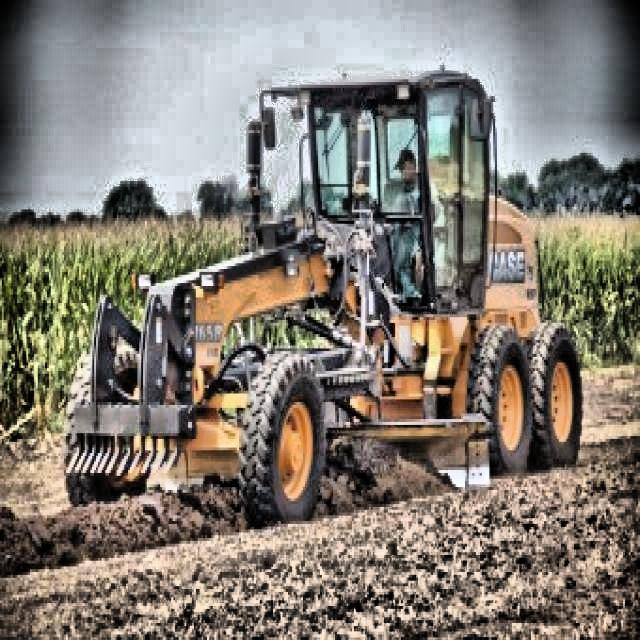bull_dozer/loader/grader: (55, 61, 586, 527)
person: (386, 149, 444, 309)
